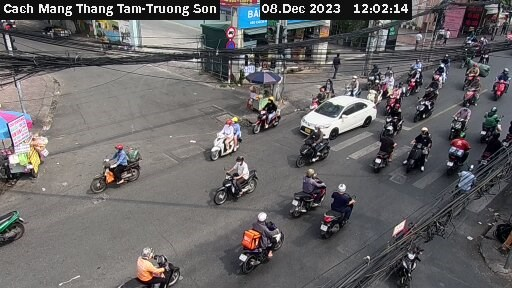car: (302, 90, 378, 138)
motorbike: (116, 237, 185, 287), (221, 209, 278, 268), (305, 181, 359, 233), (85, 142, 150, 185), (387, 224, 432, 282), (203, 162, 269, 195), (1, 190, 37, 249), (205, 115, 247, 157), (285, 167, 326, 210), (290, 125, 331, 165), (401, 126, 436, 170), (374, 132, 400, 173), (409, 92, 443, 121), (440, 137, 468, 172), (254, 100, 287, 128), (473, 112, 502, 142), (443, 106, 472, 133), (462, 79, 485, 111), (460, 61, 484, 87), (492, 67, 512, 98), (430, 66, 455, 88), (435, 53, 461, 73), (402, 56, 423, 76)
